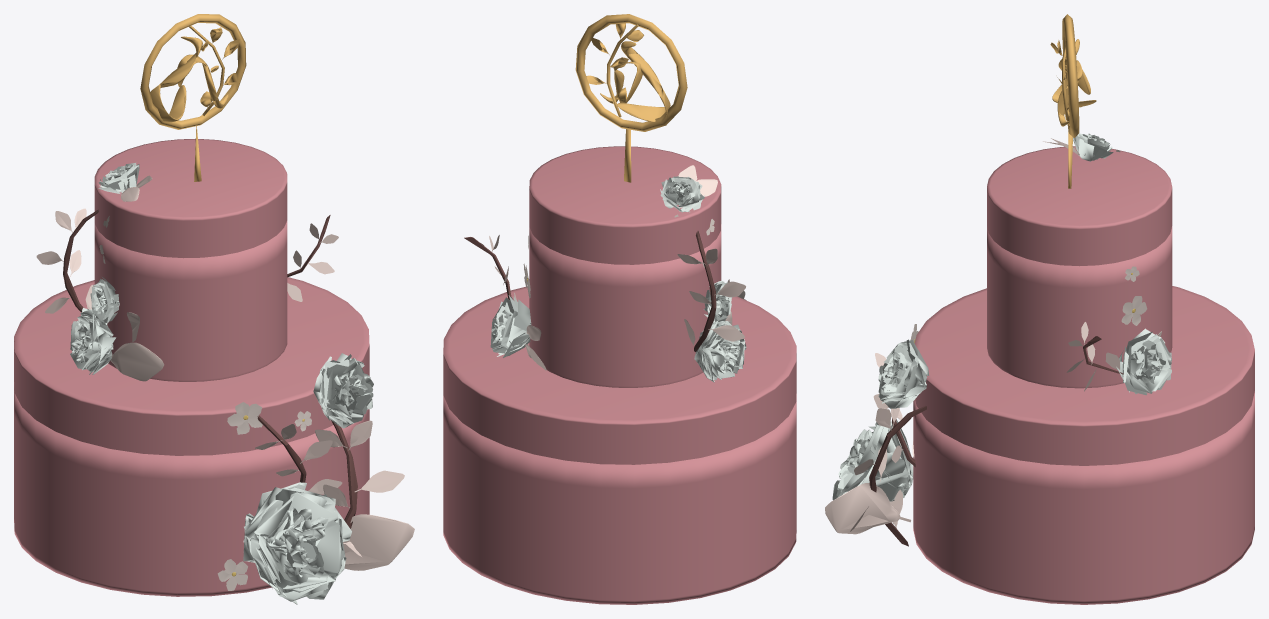
The model's file is 2-tier-blush-roses-ring.glb.
3 renders of one model, left to right at view 1: azimuth 30°, elevation 25°; view 2: azimuth 150°, elevation 25°; view 3: azimuth 270°, elevation 25°, orthographic.
Parts seen in each view (by area): view 1: Cylinder.023, Cylinder.013, grid.025, Cylinder.011, grid.024, Plane.049, Plane.059, grid.026, Plane.056, Plane.058, Plane.052, Plane.045 (+4 smaller); view 2: Cylinder.023, Cylinder.013, Cylinder.011, grid.026, Plane.056, grid.028, grid.014, grid.027, Plane.045; view 3: Cylinder.023, Cylinder.013, grid.025, Cylinder.011, grid.028, Plane.049, grid.024, Plane.059, Plane.045, grid.014, Plane.058.
Boxes of the visible parts, bbox=[...] form: Cylinder.023: bbox=[14, 277, 369, 596]; Cylinder.013: bbox=[94, 139, 287, 381]; grid.025: bbox=[243, 482, 352, 604]; Cylinder.011: bbox=[140, 14, 246, 181]; grid.024: bbox=[313, 353, 373, 428]; Plane.049: bbox=[343, 514, 414, 570]; Plane.059: bbox=[315, 420, 404, 556]; grid.026: bbox=[70, 307, 116, 374]; Plane.056: bbox=[36, 208, 98, 313]; Plane.058: bbox=[255, 415, 342, 494]; Plane.052: bbox=[110, 342, 164, 381]; Plane.045: bbox=[287, 215, 338, 301]; Cylinder.023: bbox=[443, 286, 796, 604]; Cylinder.013: bbox=[529, 146, 721, 387]; Cylinder.011: bbox=[575, 14, 687, 182]; grid.026: bbox=[694, 321, 746, 382]; Plane.056: bbox=[677, 231, 745, 351]; grid.028: bbox=[490, 295, 531, 357]; grid.014: bbox=[660, 176, 704, 212]; grid.027: bbox=[703, 281, 732, 326]; Plane.045: bbox=[464, 235, 516, 300]; Cylinder.023: bbox=[913, 286, 1254, 604]; Cylinder.013: bbox=[987, 146, 1172, 388]; grid.025: bbox=[832, 419, 913, 501]; Cylinder.011: bbox=[1050, 14, 1096, 188]; grid.028: bbox=[1116, 328, 1171, 395]; Plane.049: bbox=[825, 483, 910, 534]; grid.024: bbox=[878, 339, 929, 408]; Plane.059: bbox=[850, 406, 926, 546]; Plane.045: bbox=[1066, 322, 1123, 391]; grid.014: bbox=[1073, 133, 1113, 161]; Plane.058: bbox=[873, 353, 915, 467].
Bounding box in the file's own units: 3.4 × 5.49 × 4.11.
